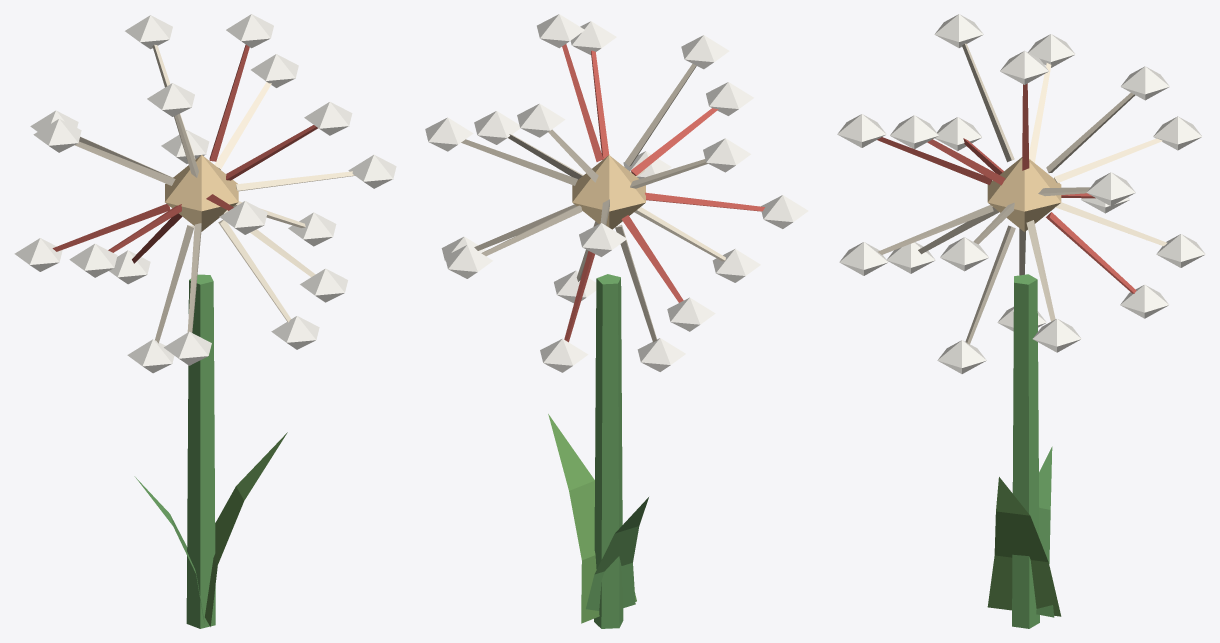
Rendered from deco_dandelion_puff.obj.
3 views of the same model, side by side, from view 1: azimuth 30°, elevation 25°; view 2: azimuth 150°, elevation 25°; view 3: azimuth 270°, elevation 25° (orthographic).
Parts seen in each view (by area): view 1: deco_dandelion_puff; view 2: deco_dandelion_puff; view 3: deco_dandelion_puff.
Boxes of the visible parts, left/top/right/bottom form: deco_dandelion_puff: left=14, top=14, right=396, bottom=628; deco_dandelion_puff: left=425, top=14, right=808, bottom=628; deco_dandelion_puff: left=837, top=14, right=1205, bottom=628.
Size of the model in its own units: 0.0315 by 0.0556 by 0.0311.
1 material, 1 textured.
